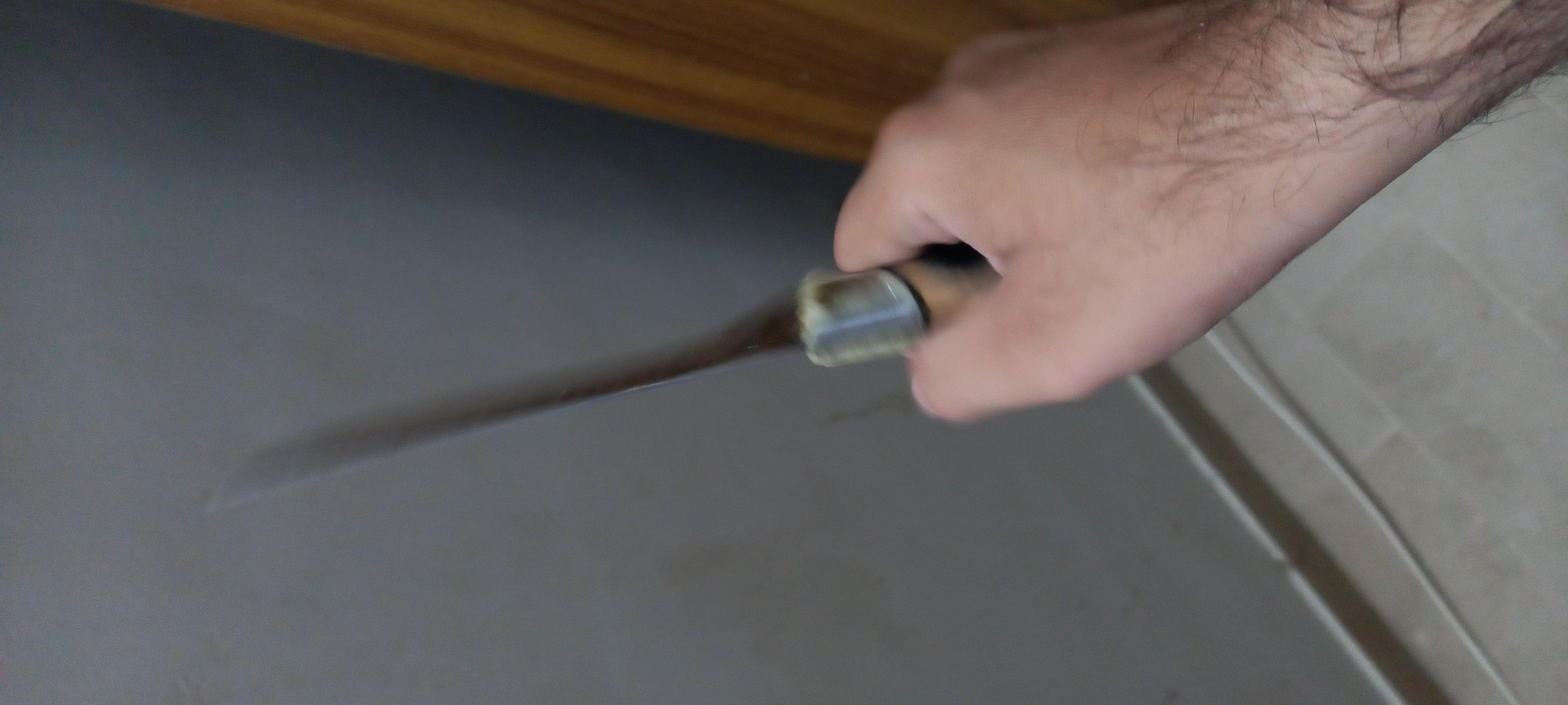knives: (356, 76, 1110, 472)
